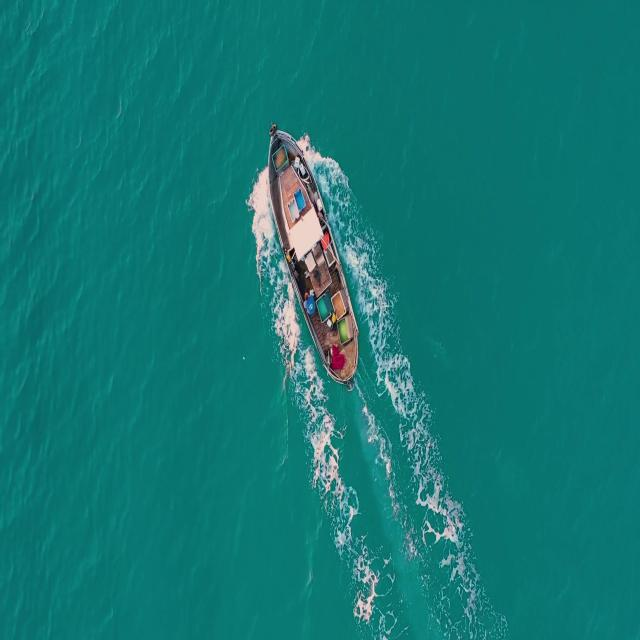ship: (264, 120, 363, 384)
